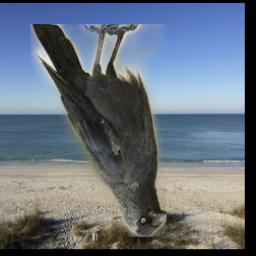Crow: (30, 25, 167, 238)
